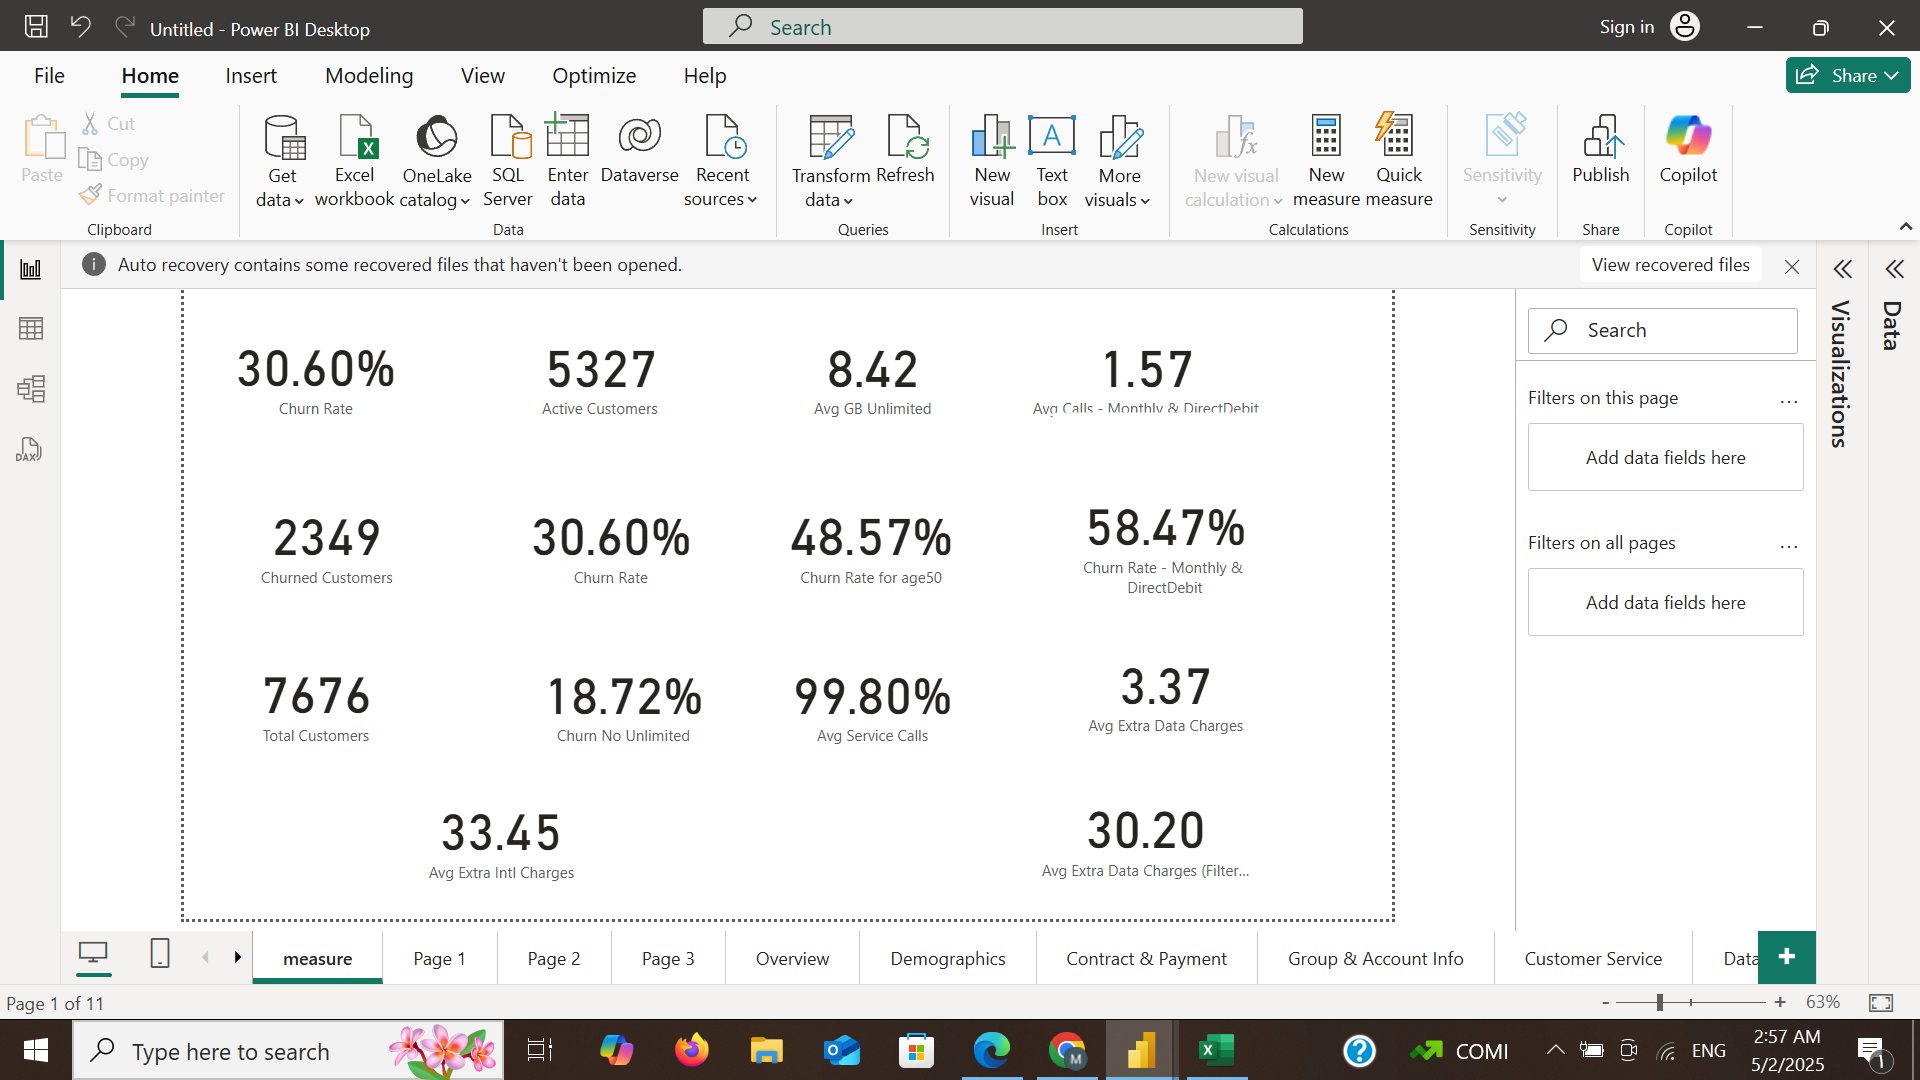

The page's visual inventory and layout, read from the dashboard file:
{"tool":"powerbi","page":{"name":"measure","canvas":[1280,720],"ordinal":0},"visuals":[{"type":"card","fields":{"Values":["SkyLink - Dataset.Churn Rate"]},"box":[0,0,279.9,279.9],"z":0},{"type":"card","fields":{"Values":["SkyLink - Dataset.Churned Customers"]},"box":[24.6,204.1,255.1,230.6],"z":1000},{"type":"card","fields":{"Values":["SkyLink - Dataset.Total Customers"]},"box":[0,412,279.7,149.3],"z":2000},{"type":"card","fields":{"Values":["SkyLink - Dataset.Active Customers"]},"box":[300,0,280,280],"z":3000},{"type":"card","fields":{"Values":["SkyLink - Dataset.Churn Rate"]},"box":[326.1,197.2,252.9,243.4],"z":4000},{"type":"card","fields":{"Values":["SkyLink - Dataset.Churn No Unlimited"]},"box":[326.1,412,279.9,149.5],"z":5000},{"type":"card","fields":{"Values":["SkyLink - Dataset.Avg GB Unlimited"]},"box":[590,0,280,280],"z":6000},{"type":"card","fields":{"Values":["SkyLink - Dataset.Churn Rate for age50"]},"box":[606,190.9,245,256.1],"z":7000},{"type":"card","fields":{"Values":["SkyLink - Dataset.Avg Service Calls"]},"box":[590.1,412,279.9,149.5],"z":8000},{"type":"card","fields":{"Values":["SkyLink - Dataset.Avg Calls - Monthly & DirectDebit"]},"box":[880,0,280,280],"z":9000},{"type":"card","fields":{"Values":["SkyLink - Dataset.Churn Rate - Monthly & DirectDebit"]},"box":[921,182.9,238.6,251.3],"z":10000},{"type":"card","fields":{"Values":["SkyLink - Dataset.Avg Extra Data Charges"]},"box":[901.9,400.8,278.4,151.1],"z":11000},{"type":"card","fields":{"Values":["SkyLink - Dataset.Avg Extra Intl Charges"]},"box":[232.2,551.9,208.4,159.1],"z":12000},{"type":"card","fields":{"Values":["SkyLink - Dataset.Avg Extra Data Charges (Filtered)"]},"box":[901.9,537.6,235.4,182.9],"z":12001}]}

Visuals, with their boxes on the page's 1280x720 design canvas (x1, y1, x2, y2). These are canvas units, not pixel positions in the 1920x1080 screenshot, which may show the page scaled, cropped or inside an application window:
card - SkyLink - Dataset.Churn Rate: locate(0, 0, 280, 280)
card - SkyLink - Dataset.Churned Customers: locate(25, 204, 280, 435)
card - SkyLink - Dataset.Total Customers: locate(0, 412, 280, 561)
card - SkyLink - Dataset.Active Customers: locate(300, 0, 580, 280)
card - SkyLink - Dataset.Churn Rate: locate(326, 197, 579, 441)
card - SkyLink - Dataset.Churn No Unlimited: locate(326, 412, 606, 562)
card - SkyLink - Dataset.Avg GB Unlimited: locate(590, 0, 870, 280)
card - SkyLink - Dataset.Churn Rate for age50: locate(606, 191, 851, 447)
card - SkyLink - Dataset.Avg Service Calls: locate(590, 412, 870, 562)
card - SkyLink - Dataset.Avg Calls - Monthly & DirectDebit: locate(880, 0, 1160, 280)
card - SkyLink - Dataset.Churn Rate - Monthly & DirectDebit: locate(921, 183, 1160, 434)
card - SkyLink - Dataset.Avg Extra Data Charges: locate(902, 401, 1180, 552)
card - SkyLink - Dataset.Avg Extra Intl Charges: locate(232, 552, 441, 711)
card - SkyLink - Dataset.Avg Extra Data Charges (Filtered): locate(902, 538, 1137, 720)
